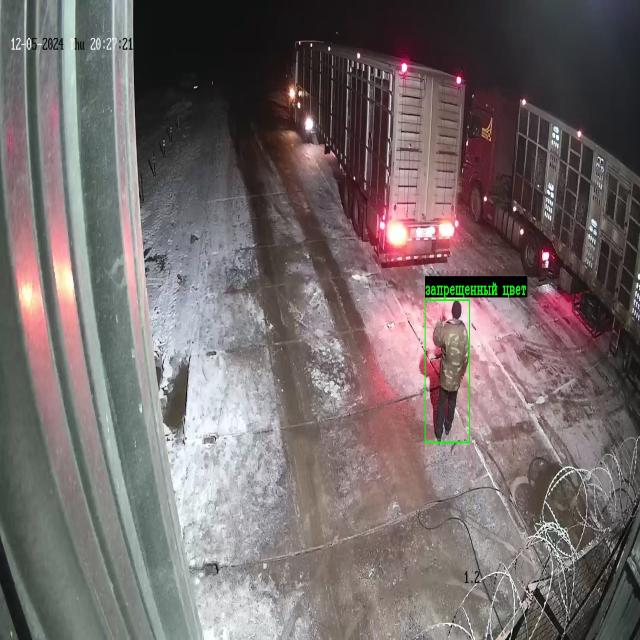Person: (432, 302, 469, 440)
